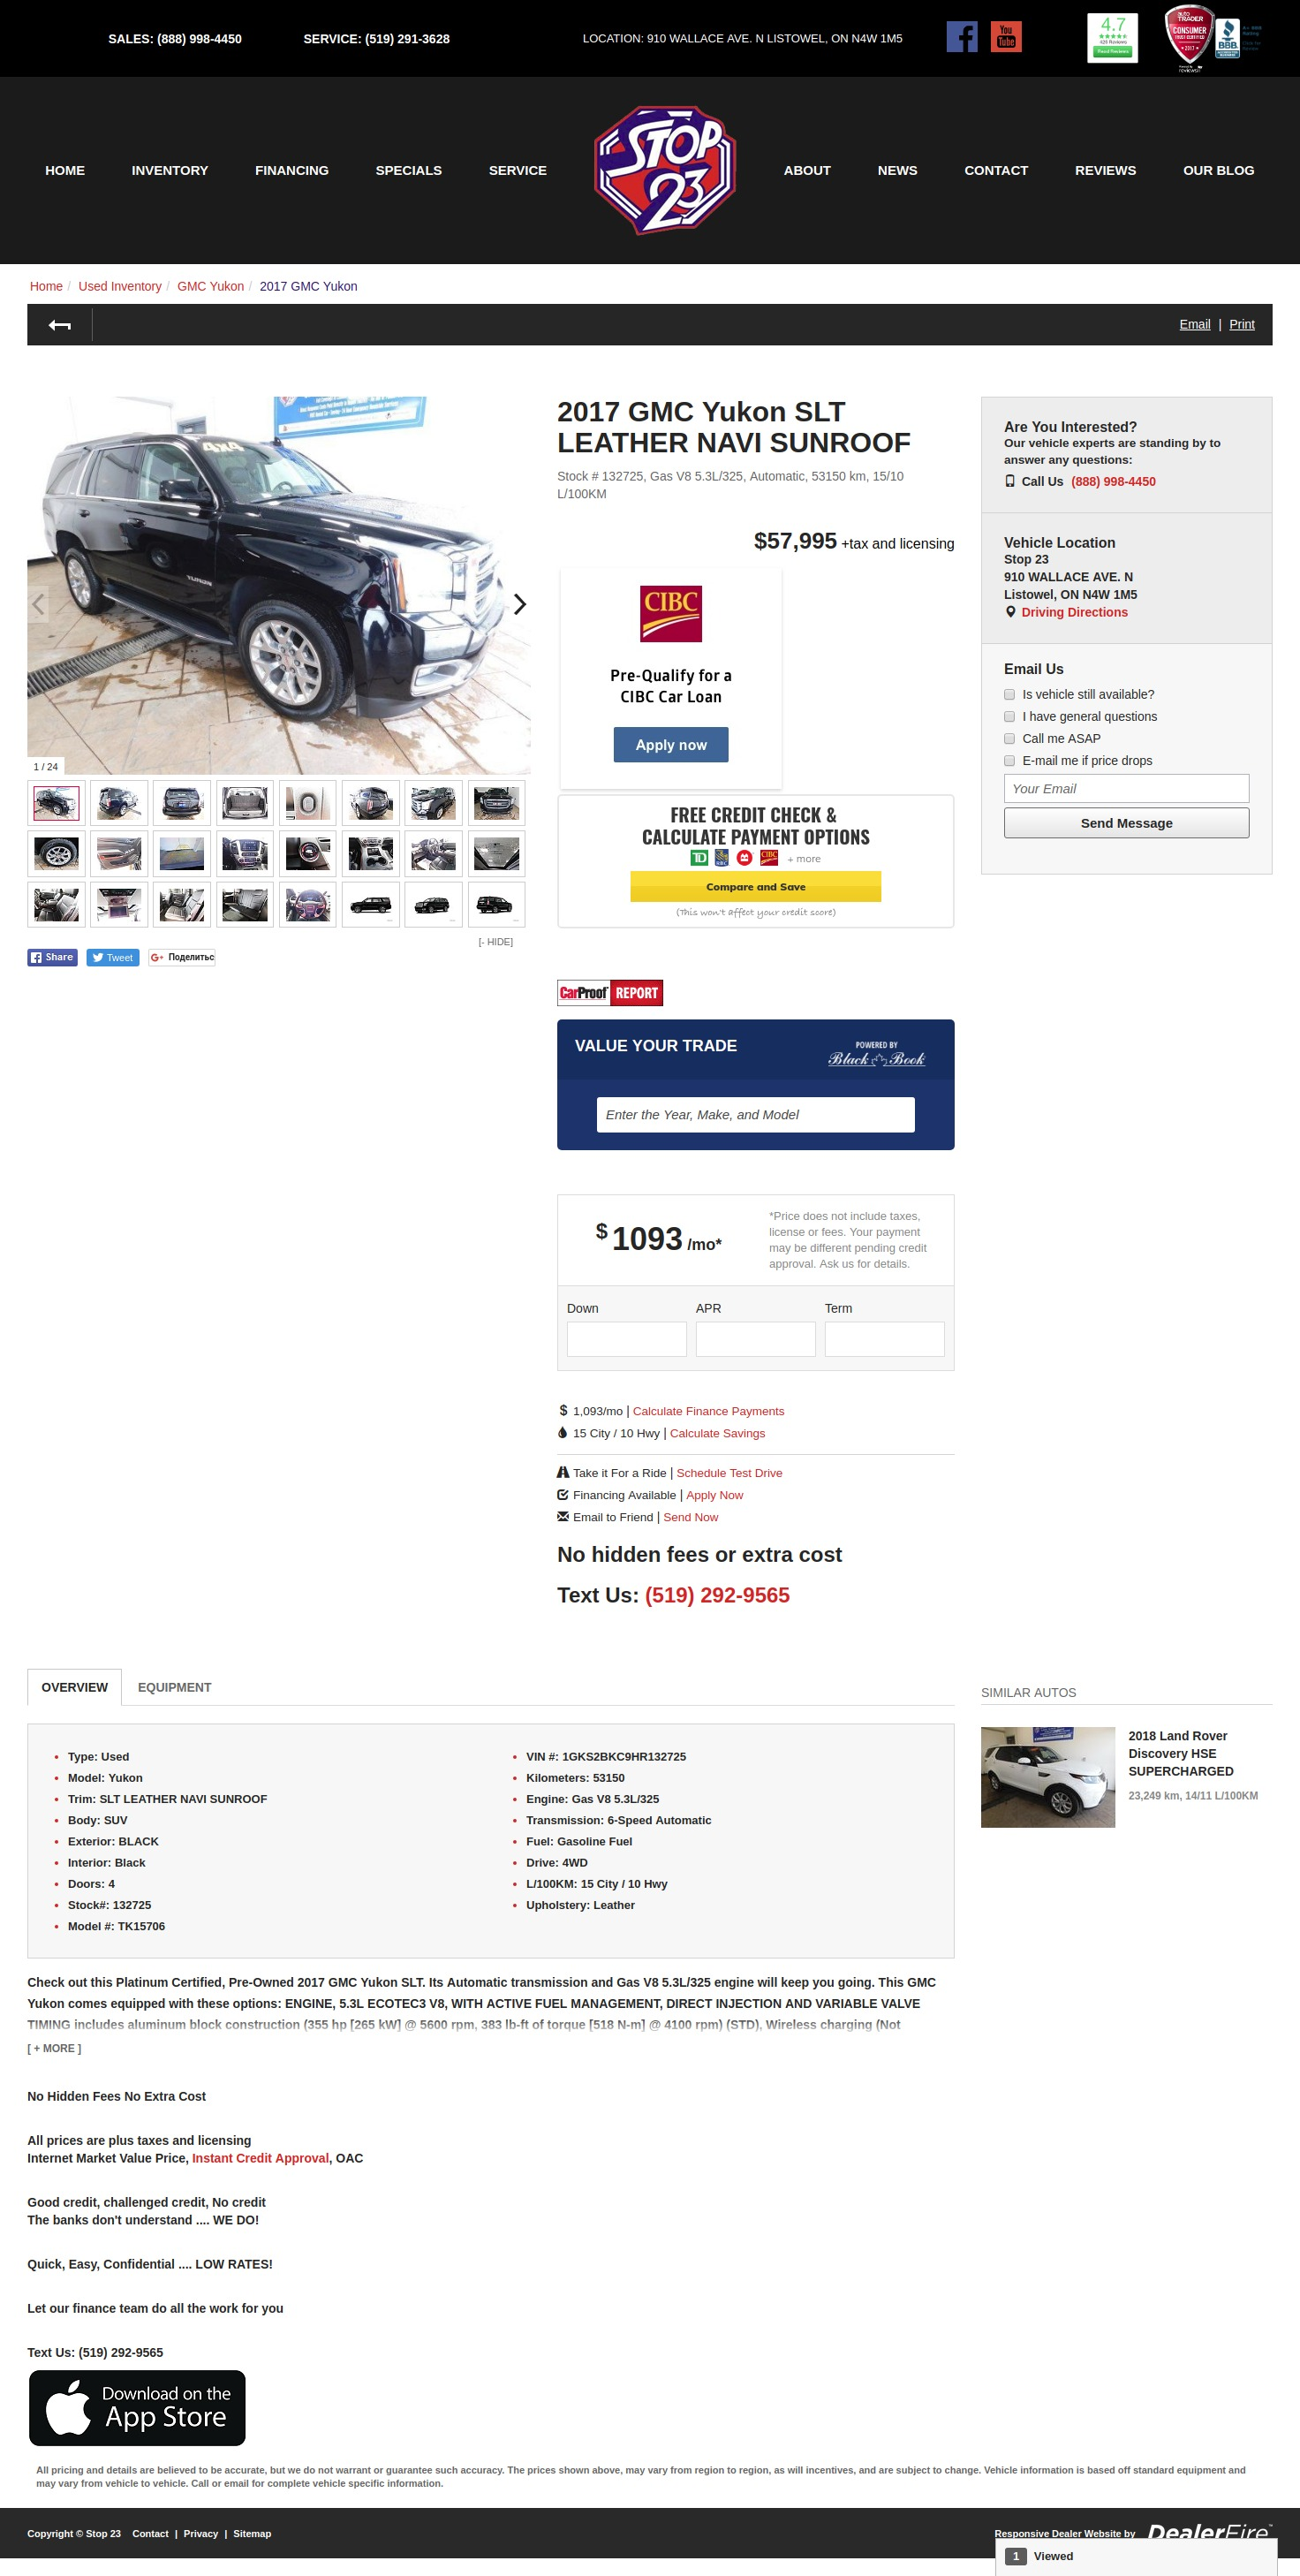car: (512, 593, 527, 617)
